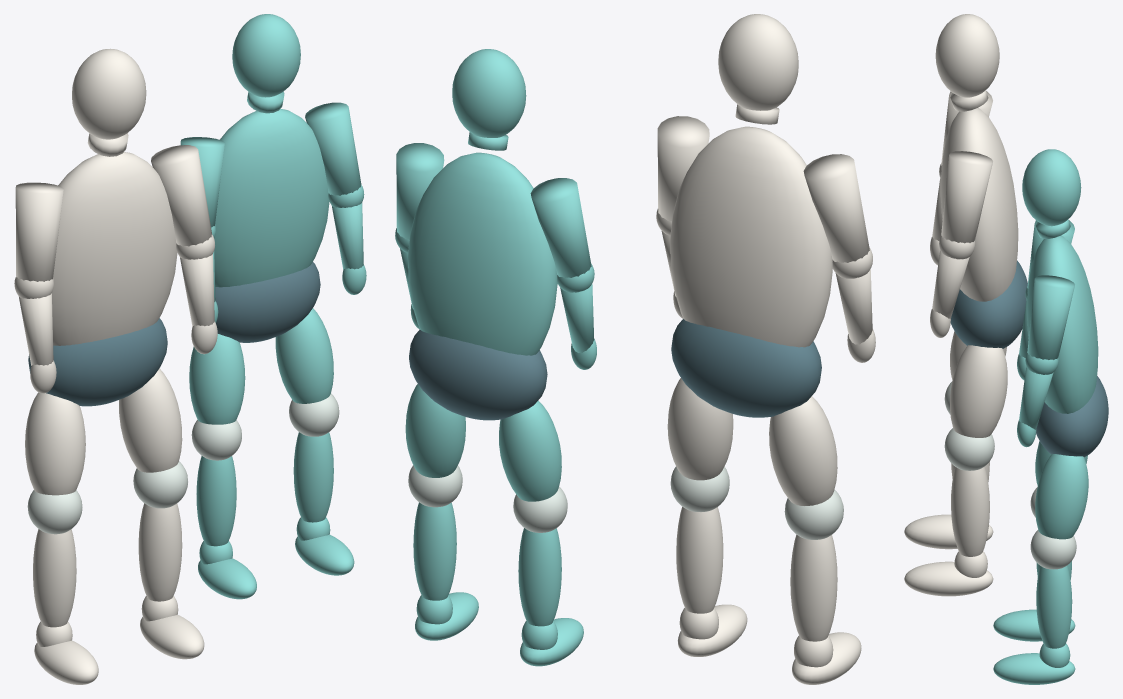
File: movement-coach.glb
The picture shows the model from 3 angles, left to right: view 1: azimuth 30°, elevation 25°; view 2: azimuth 150°, elevation 25°; view 3: azimuth 270°, elevation 25°; orthographic projection. The views are drawn at different scales.
Parts seen in each view (by area): view 1: static #eee5d3, static #49bdb4, static #203c48, static #c7ddd2; view 2: static #eee5d3, static #49bdb4, static #203c48, static #c7ddd2; view 3: static #eee5d3, static #49bdb4, static #203c48, static #c7ddd2.
Part boxes in pixels (<box>): static #eee5d3: <box>14,48,217,684</box>; static #49bdb4: <box>180,14,366,599</box>; static #203c48: <box>28,262,320,406</box>; static #c7ddd2: <box>27,393,339,534</box>; static #eee5d3: <box>656,14,875,684</box>; static #49bdb4: <box>395,49,596,666</box>; static #203c48: <box>409,319,821,420</box>; static #c7ddd2: <box>408,465,843,539</box>; static #eee5d3: <box>904,14,1018,596</box>; static #49bdb4: <box>993,149,1098,684</box>; static #203c48: <box>950,260,1108,457</box>; static #c7ddd2: <box>944,381,1076,569</box>.
Size of the model in its own units: 0.2961 by 0.4375 by 0.1466.
